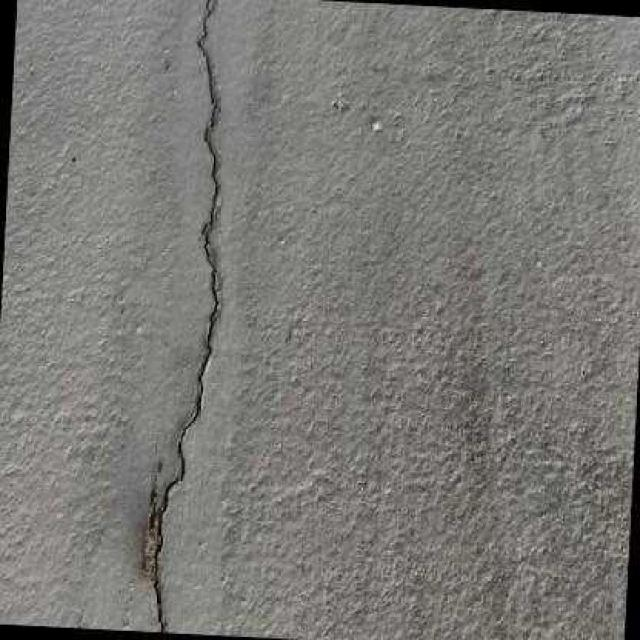D00: (151, 0, 221, 632)
